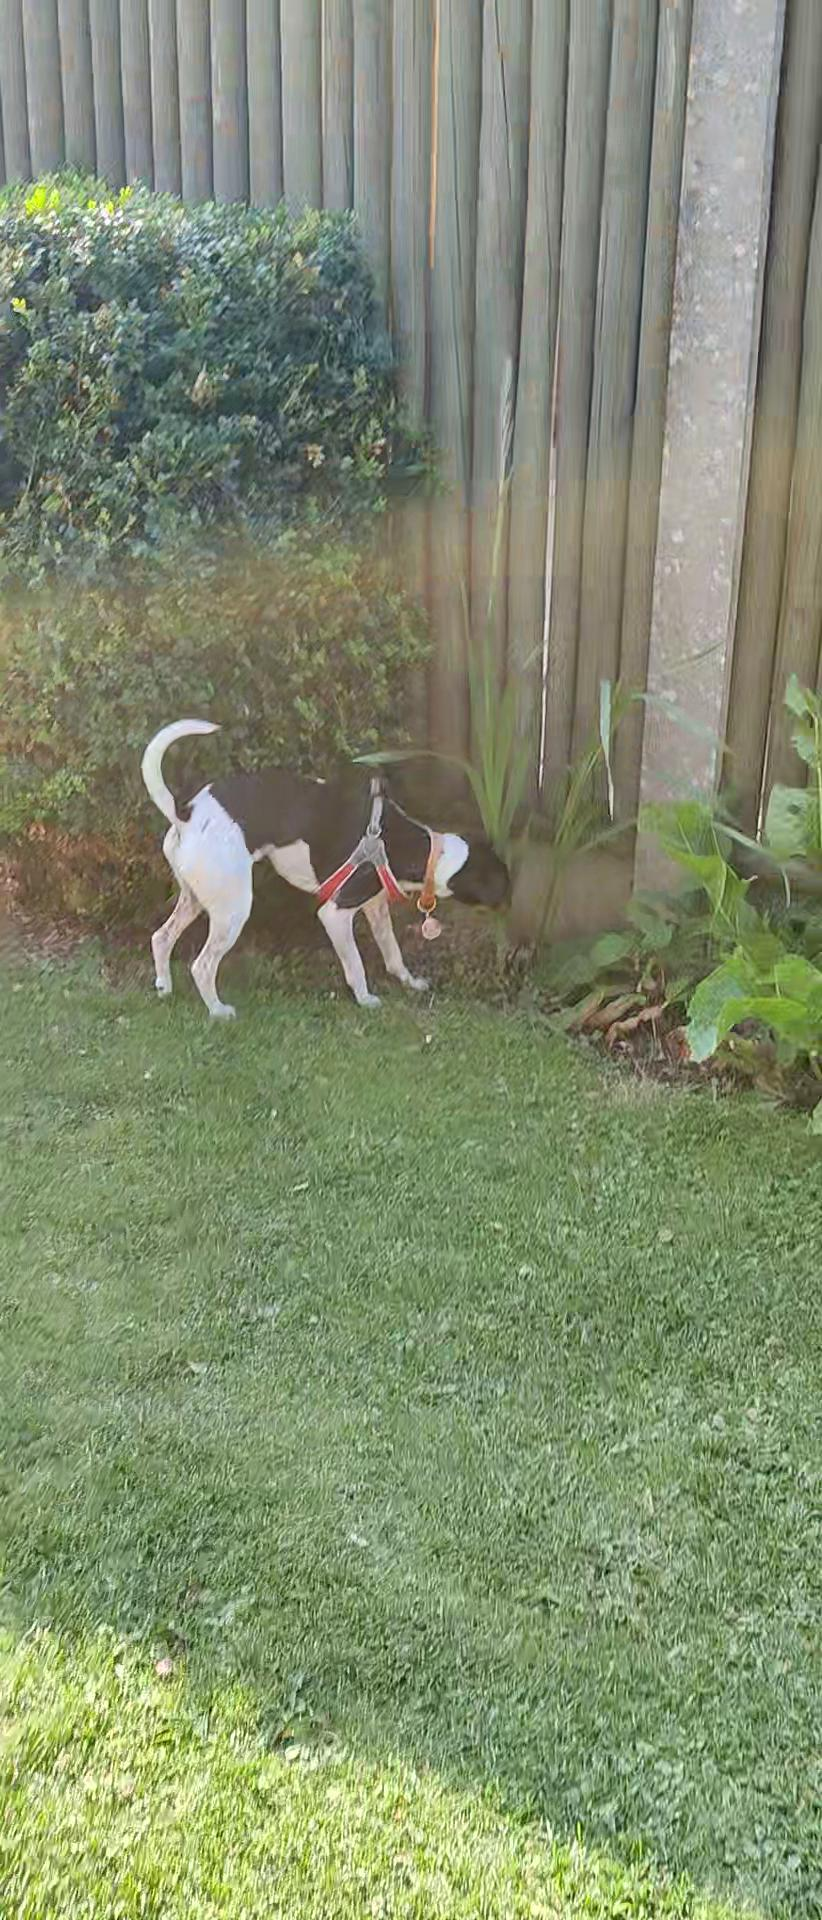Dog: (118, 700, 517, 1031)
